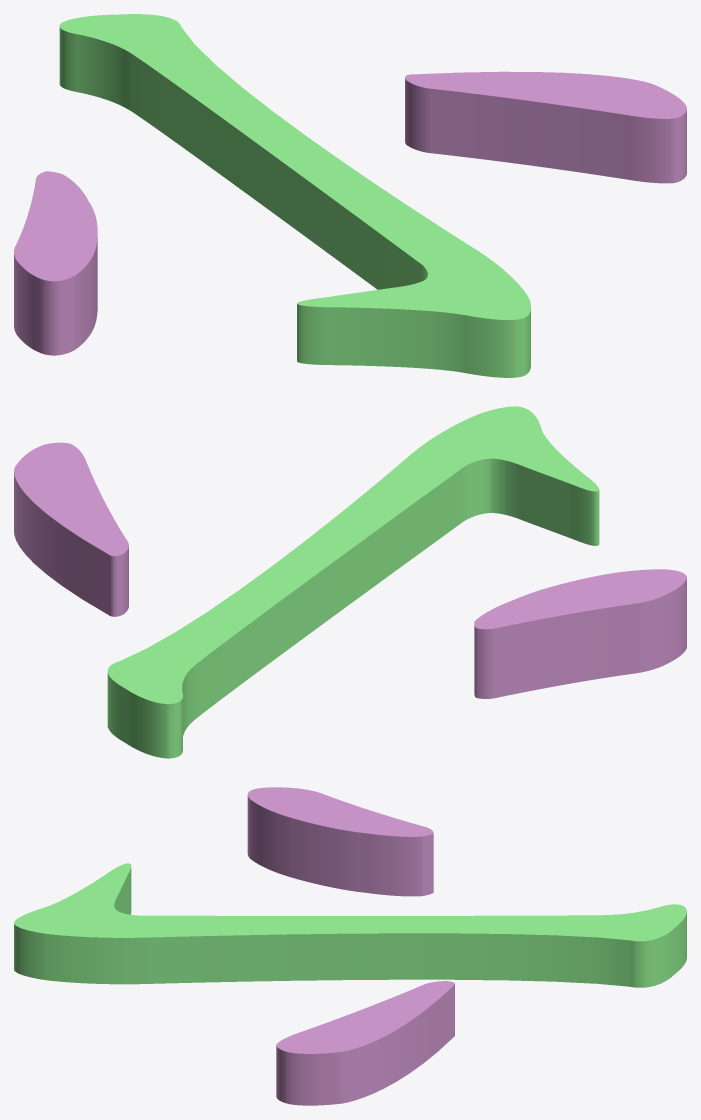
File: hanzi114.fbx
3 views of the same model, one above another, from view 1: azimuth 30°, elevation 25°; view 2: azimuth 150°, elevation 25°; view 3: azimuth 270°, elevation 25° (orthographic). The views are drawn at different scales.
Parts seen in each view (by area): view 1: Curve, Curve.002, Curve.001; view 2: Curve, Curve.001, Curve.002; view 3: Curve, Curve.001, Curve.002.
Part boxes in pixels (x1=…): Curve: x1=59, y1=14, x2=530, y2=377; Curve.002: x1=405, y1=71, x2=686, y2=183; Curve.001: x1=14, y1=171, x2=97, y2=355; Curve: x1=107, y1=406, x2=599, y2=758; Curve.001: x1=474, y1=569, x2=686, y2=698; Curve.002: x1=14, y1=442, x2=128, y2=616; Curve: x1=14, y1=863, x2=686, y2=987; Curve.001: x1=247, y1=787, x2=433, y2=896; Curve.002: x1=276, y1=981, x2=454, y2=1105.
Bounding box in the file's own units: 21.26 × 23.02 × 2.25.
